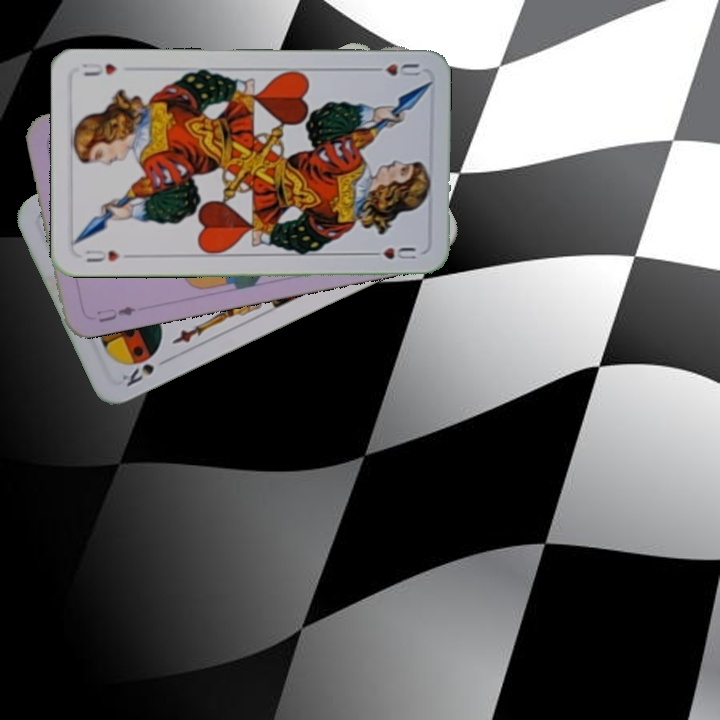EU: (93, 302, 139, 325)
HU: (365, 60, 423, 82), (81, 245, 122, 265)
SK: (117, 354, 172, 390)
